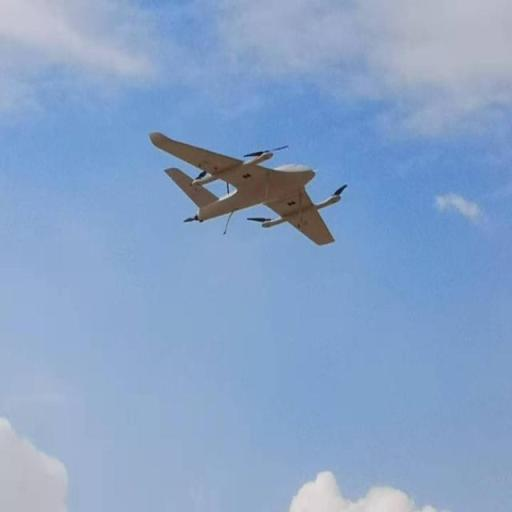uav: (127, 118, 370, 271)
